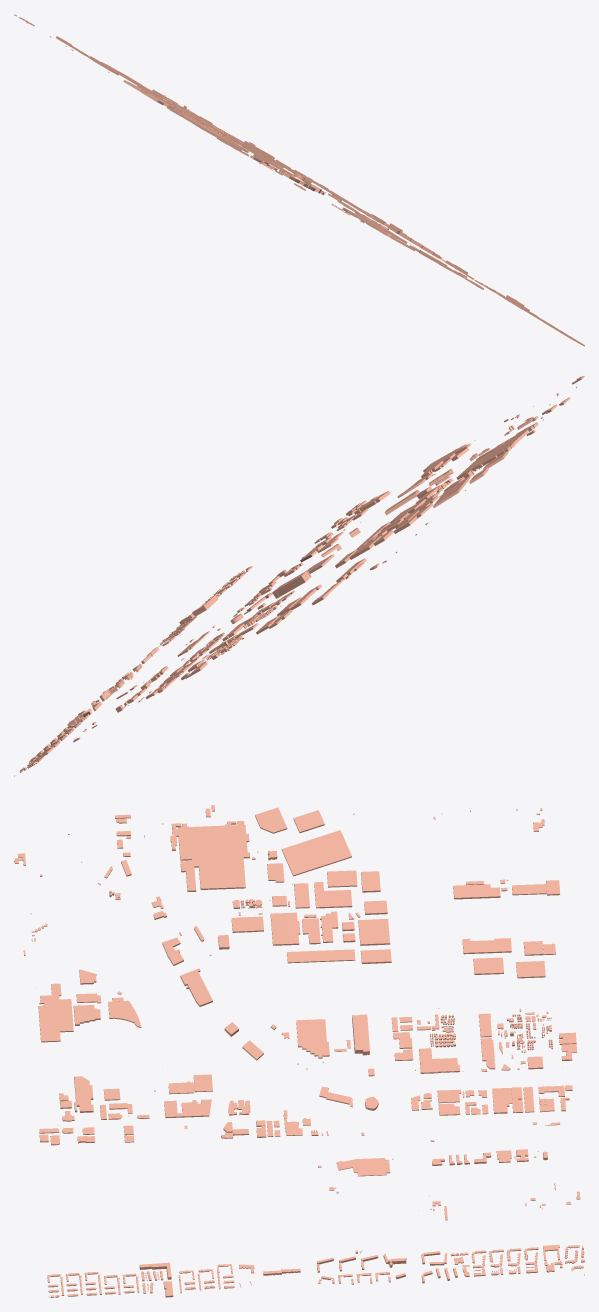
The picture shows the model from 3 angles, top to bottom: view 1: azimuth 30°, elevation 25°; view 2: azimuth 150°, elevation 25°; view 3: azimuth 270°, elevation 25°; orthographic projection. The views are drawn at different scales.
Size of the model in its own units: 2058 by 1497 by 2532.
